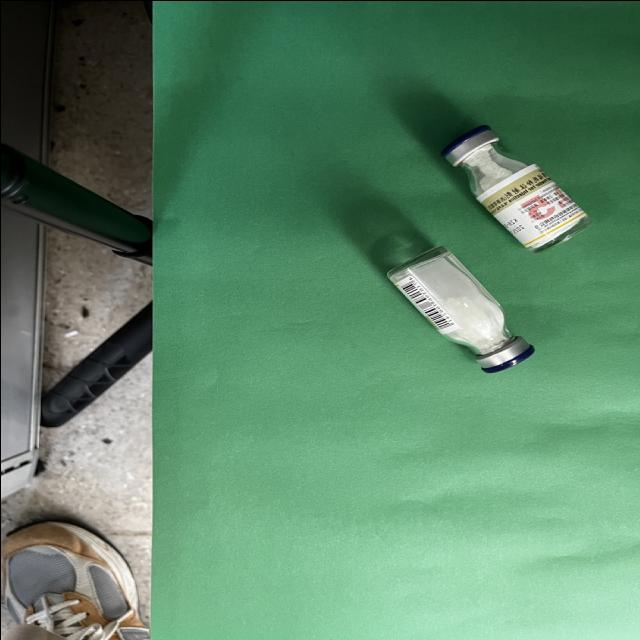Vials: (441, 124, 590, 252), (386, 246, 533, 372)
